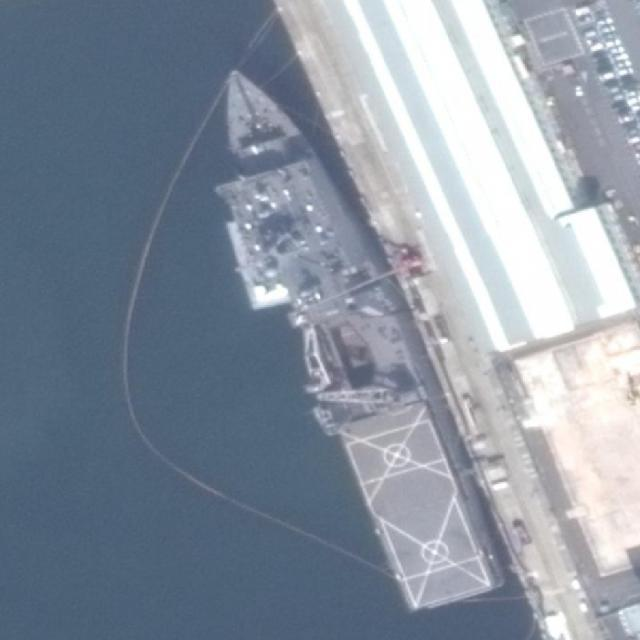Destroyer: (197, 39, 509, 626)
